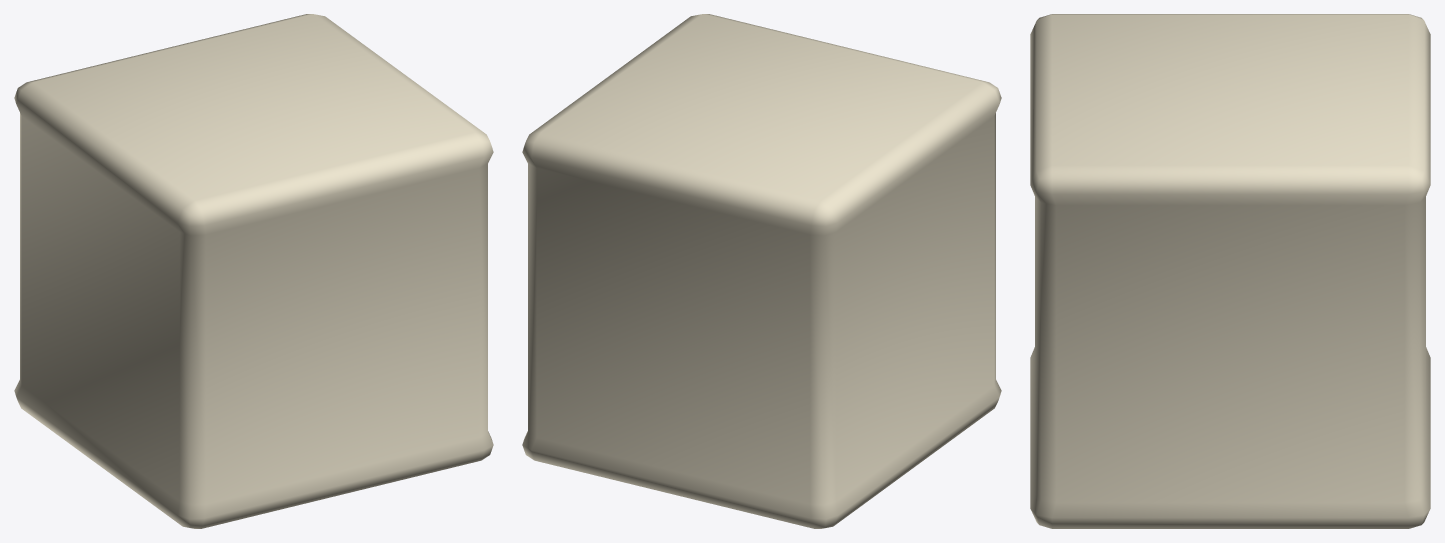
File: Tofu.fbx
3 renders of one model, left to right at view 1: azimuth 30°, elevation 25°; view 2: azimuth 150°, elevation 25°; view 3: azimuth 270°, elevation 25°, orthographic. The views are drawn at different scales.
Visible parts, largest first — view 1: Tofu; view 2: Tofu; view 3: Tofu.
Boxes of the visible parts, bbox=[...] form: Tofu: bbox=[14, 14, 493, 528]; Tofu: bbox=[522, 14, 1001, 528]; Tofu: bbox=[1030, 14, 1430, 528].
Bounding box in the file's own units: 48 × 48 × 48.
